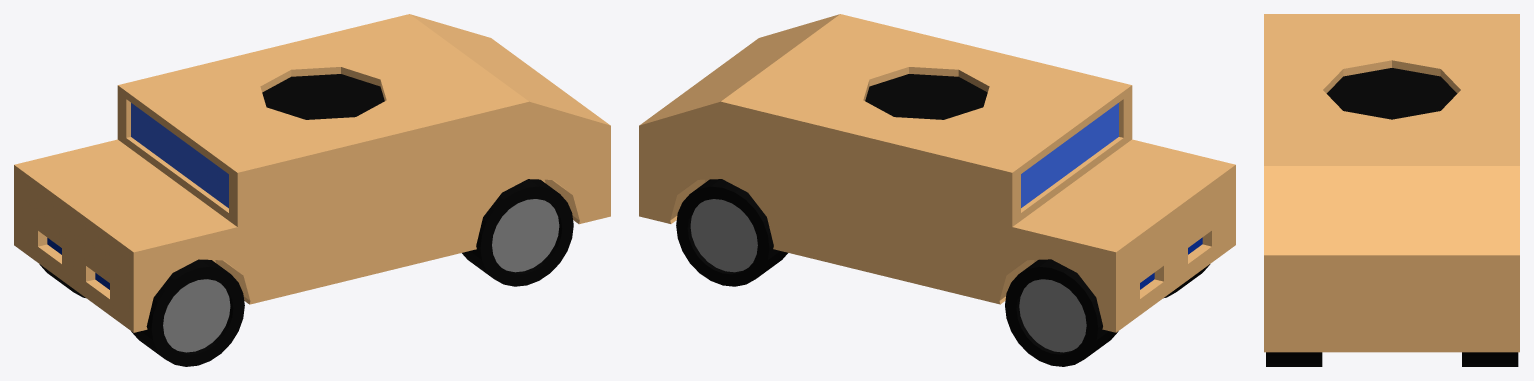
Rendered from Humve_Desert.fbx.
3 views of the same model, side by side, from view 1: azimuth 30°, elevation 25°; view 2: azimuth 150°, elevation 25°; view 3: azimuth 270°, elevation 25° (orthographic). The views are drawn at different scales.
Visible parts, largest first — view 1: Humvee_Desert; view 2: Humvee_Desert; view 3: Humvee_Desert.
Boxes of the visible parts, <box> form: Humvee_Desert: <box>14,14,610,366</box>; Humvee_Desert: <box>639,14,1235,366</box>; Humvee_Desert: <box>1264,14,1519,366</box>.
Bounding box in the file's own units: 920 × 339 × 400.
1 material, 1 textured.
